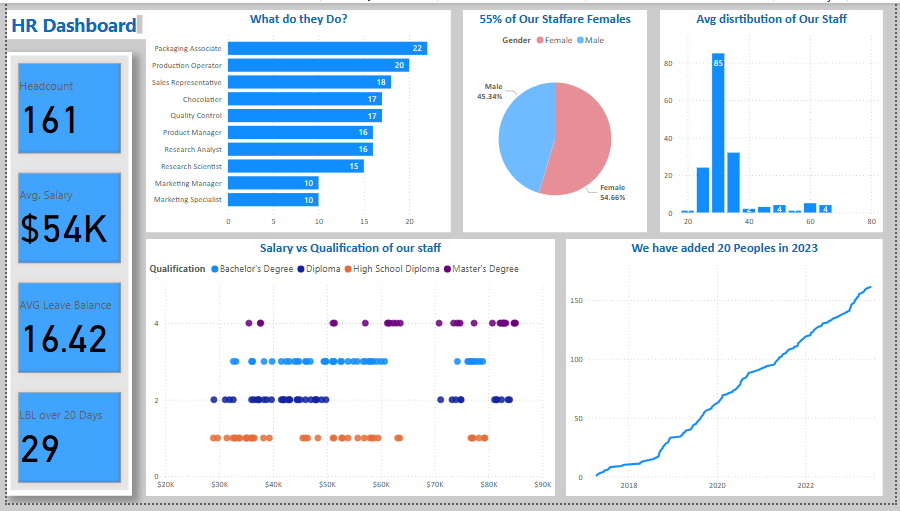

What the dashboard file says about the page in this screenshot:
{"tool":"powerbi","page":{"name":"HR Dashborad","canvas":[1280,720],"ordinal":9},"visuals":[{"type":"cardVisual","fields":{"Data":["staff.Headcount","staff.Avg. Salary","staff.AVG Leave Balance","staff.LBL over 20 Days"]},"box":[0,70.6,180,639.4],"z":0},{"type":"clusteredBarChart","title":"What do they Do?","fields":{"Y":["staff.Headcount"],"Category":["staff.Job Title"]},"box":[200.2,10.1,439.2,319.7],"z":1},{"type":"pieChart","title":"55% of Our Staffare Females","fields":{"Category":["staff.Gender"],"Y":["staff.Headcount"]},"box":[656.6,10.1,265,319.7],"z":2},{"type":"columnChart","title":"Avg disrtibution of Our Staff","fields":{"Y":["staff.Headcount"],"Category":["staff.Age (bins)"]},"box":[940.3,10.1,321.1,319.7],"z":3},{"type":"scatterChart","title":"Salary vs Qualification of our staff","fields":{"X":["staff.Salary"],"Y":["Education Qualification.Qualification ID"],"Series":["Education Qualification.Qualification"]},"box":[200.2,339.8,589,370.1],"z":4},{"type":"lineChart","title":"We have added 20 Peoples in 2023","fields":{"Y":["staff.Cumulative Headcount"],"Category":["staff.Date of Join"]},"box":[805,339.8,456.5,370.1],"z":5},{"type":"textbox","box":[0,10.1,200.2,41.8],"z":6}]}

Visuals, with their boxes in screenshot pixels (x1, y1, x2, y2), scaled from the page's 1280x720 canvas onto the 900x511 screenshot:
cardVisual - staff.Headcount x staff.Avg. Salary: <region>0, 50, 127, 504</region>
"What do they Do?" clusteredBarChart: <region>141, 7, 450, 234</region>
"55% of Our Staffare Females" pieChart: <region>462, 7, 648, 234</region>
"Avg disrtibution of Our Staff" columnChart: <region>661, 7, 887, 234</region>
"Salary vs Qualification of our staff" scatterChart: <region>141, 241, 555, 504</region>
"We have added 20 Peoples in 2023" lineChart: <region>566, 241, 887, 504</region>
textbox: <region>0, 7, 141, 37</region>
